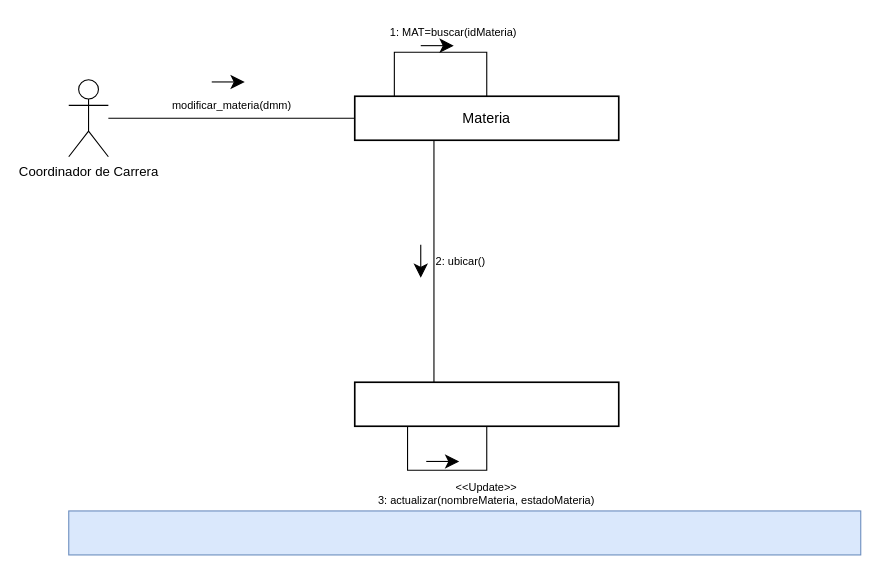
This 880x574 diagram has some shape labels left out. The shapes that lost their labels are listed below. From the top down, each one's centre as x and y in pixels, then its label:
At point (486, 404): "MAT : Materia".
At point (464, 532): "DD's: dmm = idMateria + nombreMateria + estadoMateria".
